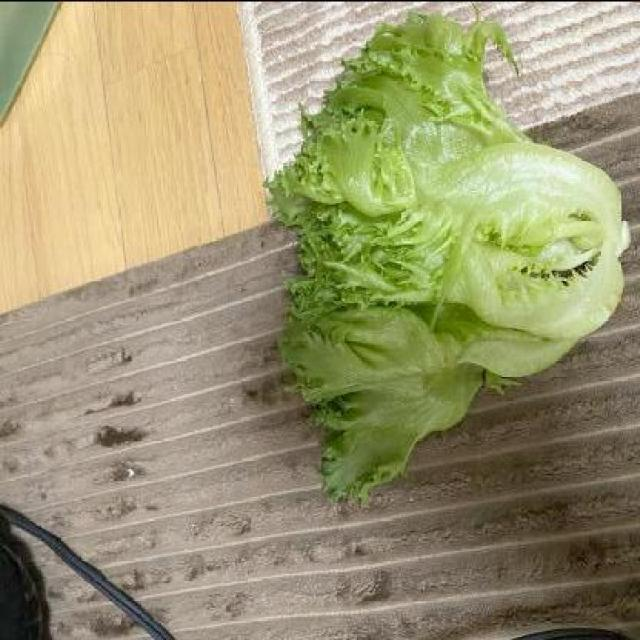Lettuce: (258, 10, 634, 523)
